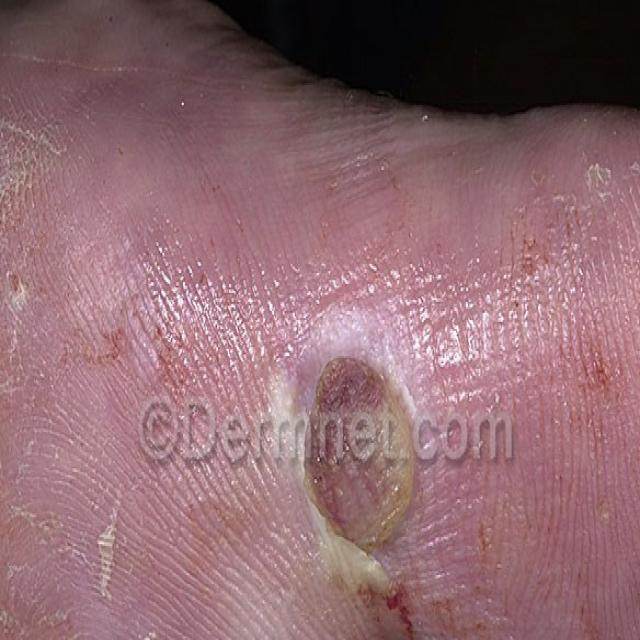Vascular Tumors: (270, 282, 448, 640)
